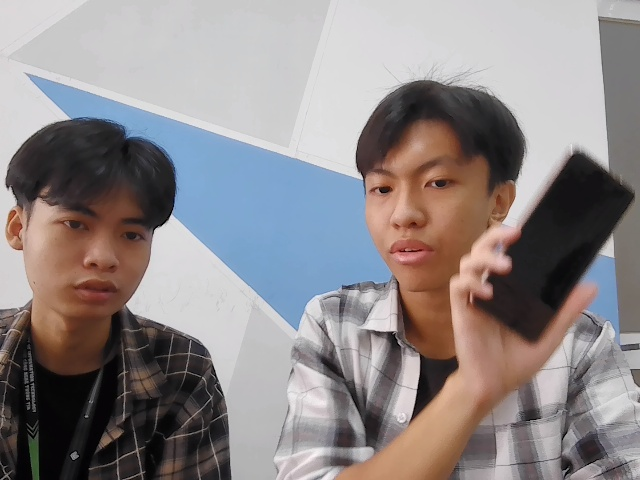human: (8, 113, 178, 322), (356, 77, 516, 282)
phone: (473, 144, 631, 344)
